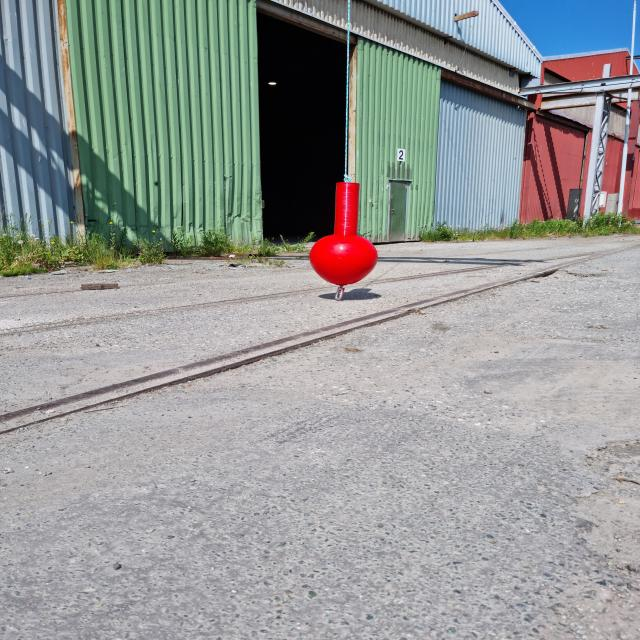red: (310, 182, 378, 285)
